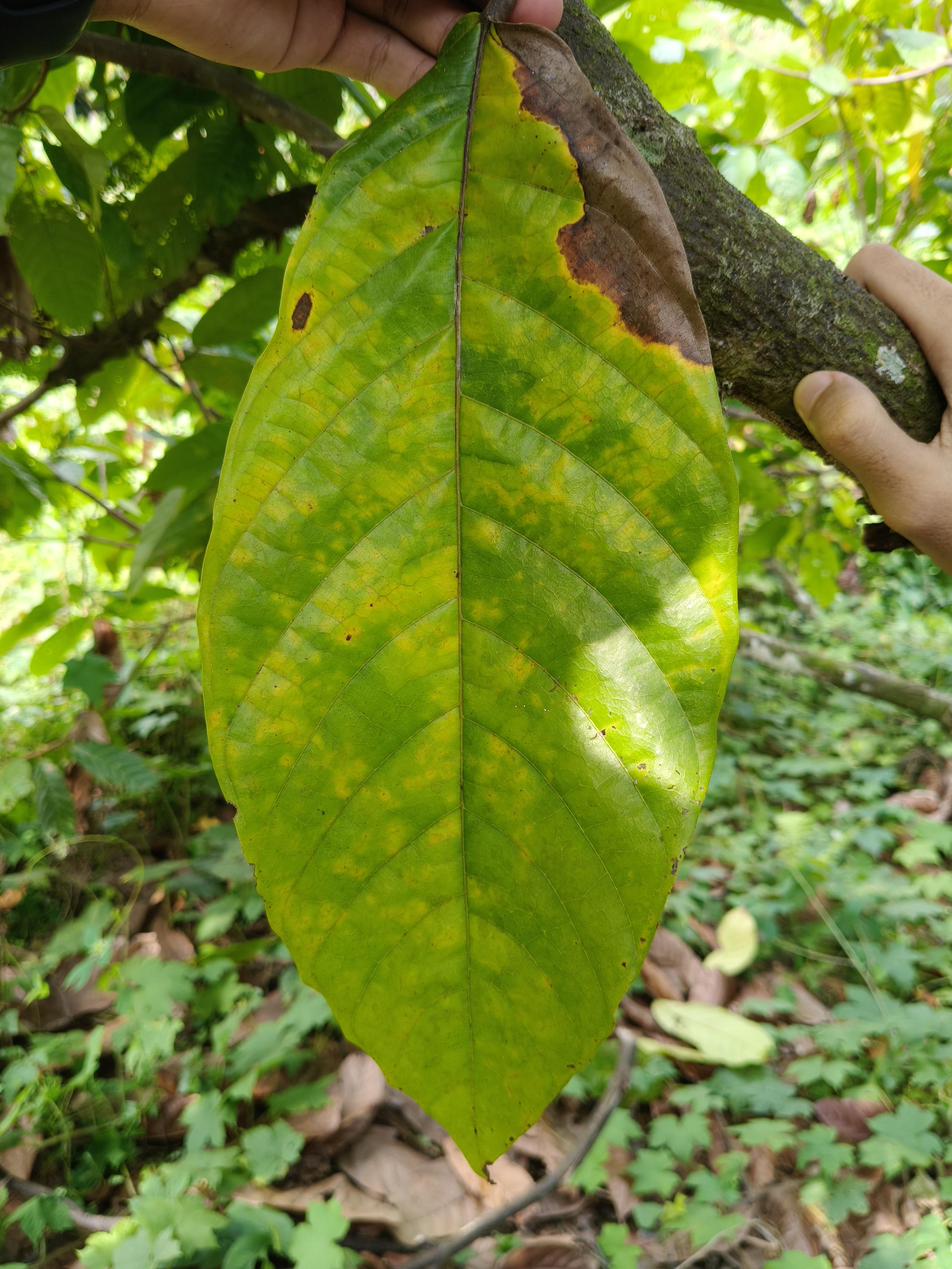deficiencia_potasio: (182, 0, 750, 1193)
